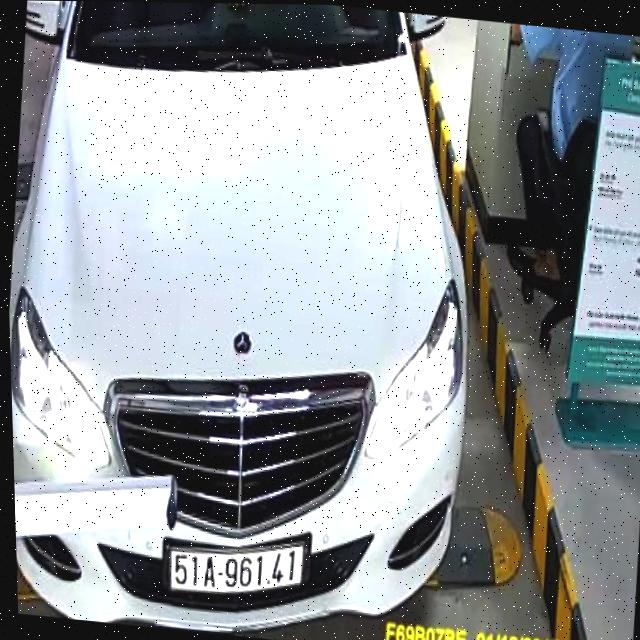car: (0, 0, 505, 629)
plate: (161, 533, 308, 606)
